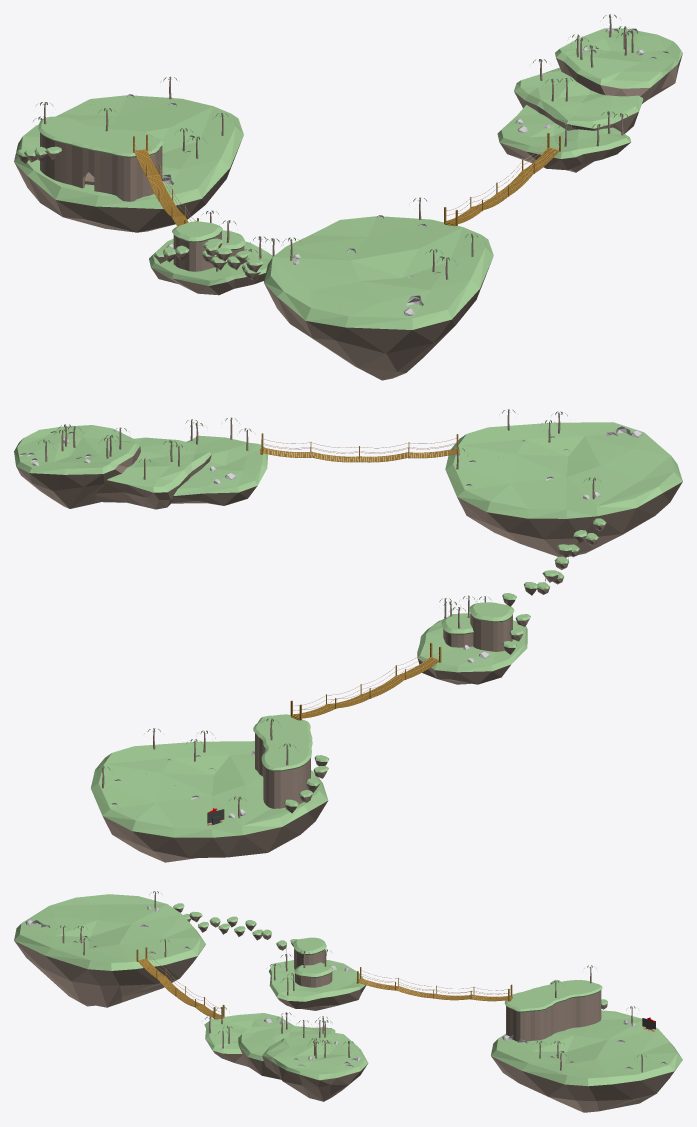
The model's file is maze_world_main.glb.
3 views of the same model, one above another, from view 1: azimuth 30°, elevation 25°; view 2: azimuth 150°, elevation 25°; view 3: azimuth 270°, elevation 25° (orthographic). The views are drawn at different scales.
Parts seen in each view (by area): view 1: Roblox reference geometry; view 2: Roblox reference geometry; view 3: Roblox reference geometry.
Part boxes in pixels (x1=…): Roblox reference geometry: x1=14, y1=14, x2=682, y2=380; Roblox reference geometry: x1=14, y1=409, x2=682, y2=862; Roblox reference geometry: x1=14, y1=891, x2=682, y2=1112.
Size of the model in its own units: 220 by 94.04 by 309.
